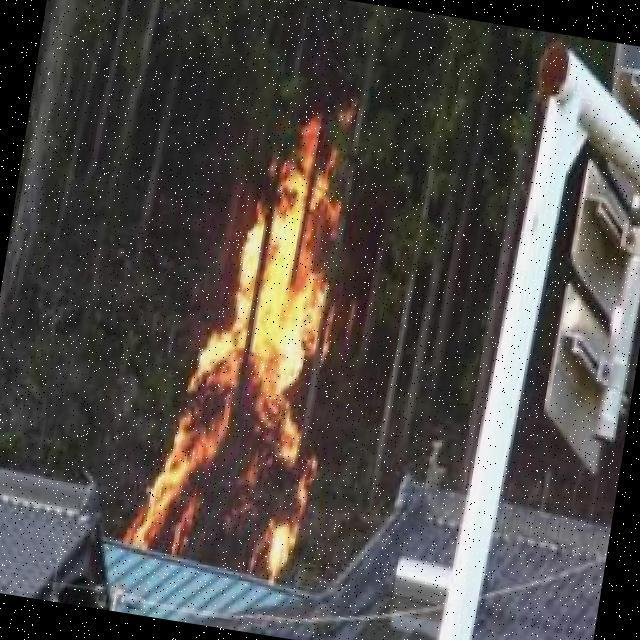Fire: (117, 158, 363, 588)
